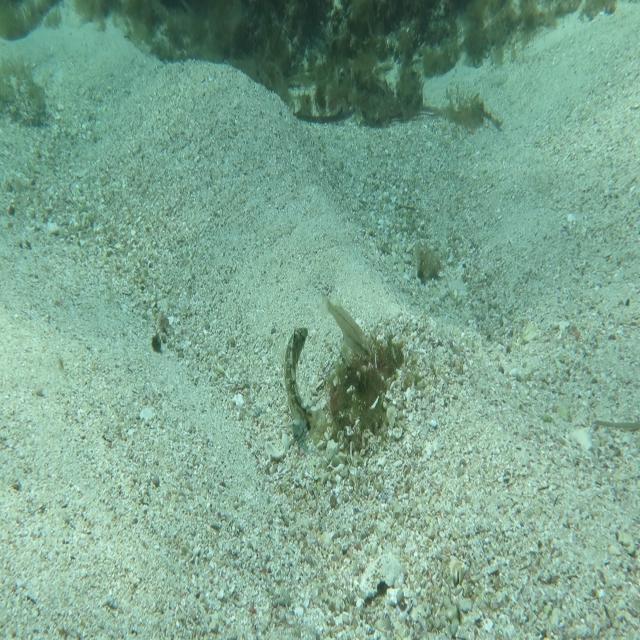BEND: (279, 315, 328, 449)
female: (312, 282, 375, 366)
nest: (314, 330, 408, 446)
vegetation: (114, 0, 542, 57), (245, 62, 446, 125), (412, 242, 446, 287)
